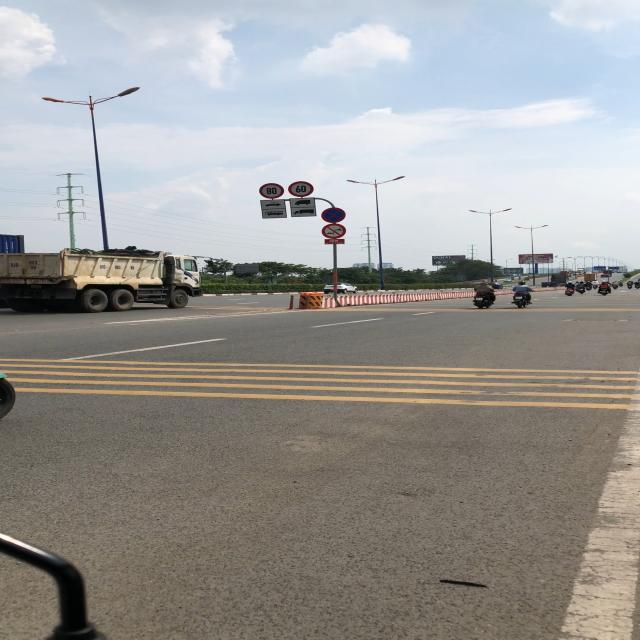Bien bao cam dung xe va do xe: (319, 207, 348, 223)
Bien bao toc do toi da cho phep: (255, 182, 285, 200), (286, 182, 317, 198)
